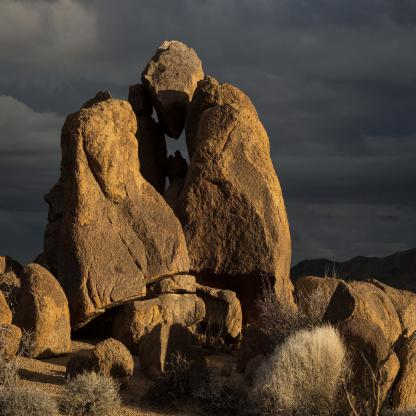Igneous_Granite: (38, 89, 174, 310), (192, 72, 299, 328), (317, 275, 416, 415), (123, 278, 238, 362), (14, 254, 75, 358), (153, 32, 212, 126)
